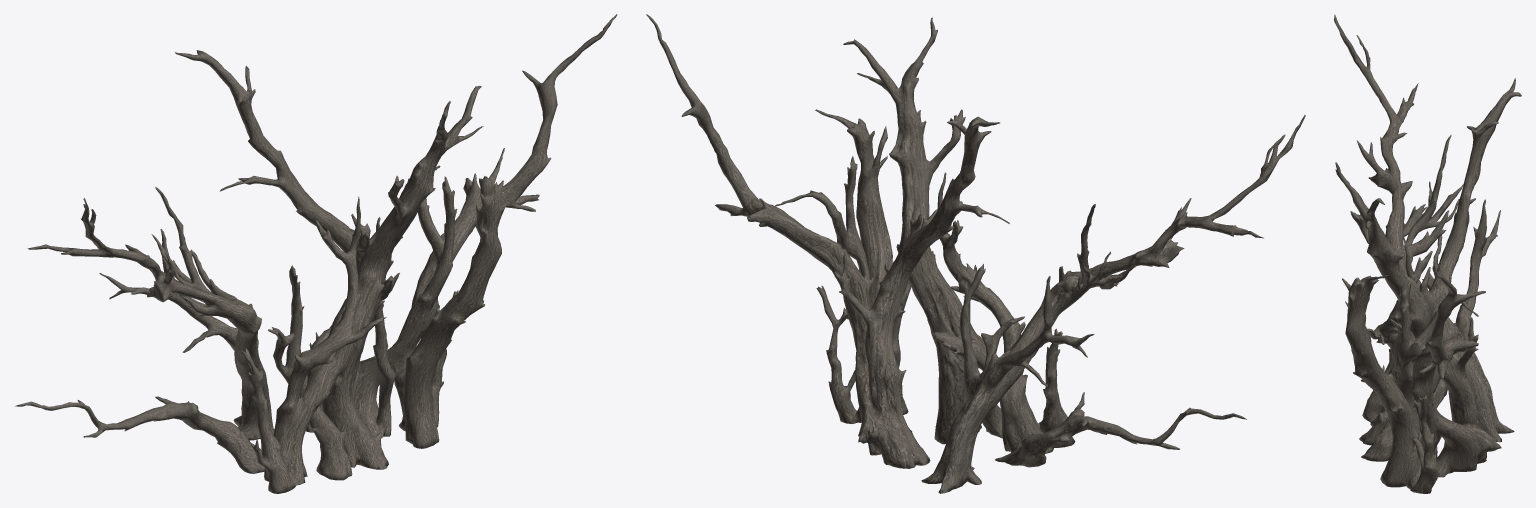
File: DeadTree.obj
The picture shows the model from 3 angles, left to right: view 1: azimuth 30°, elevation 25°; view 2: azimuth 150°, elevation 25°; view 3: azimuth 270°, elevation 25°; orthographic projection. The views are drawn at different scales.
Bounding box in the file's own units: 190 × 116 × 59.91.
Materials: 1 (1 with a texture image).
